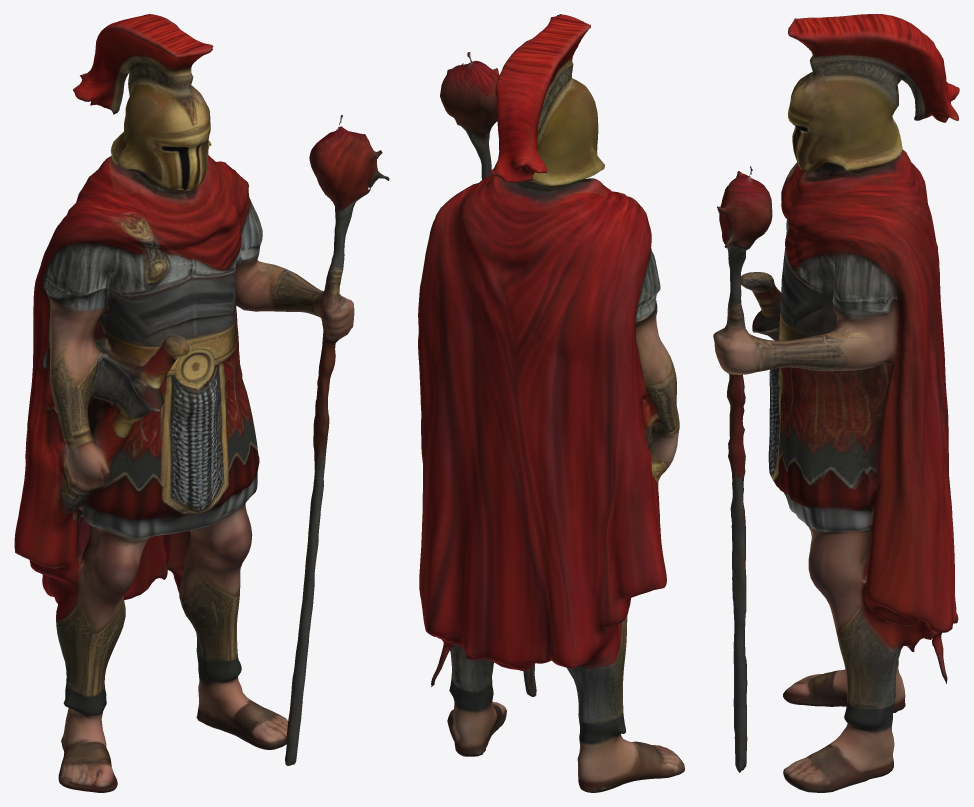
Rendered from centurion.glb.
The picture shows the model from 3 angles, left to right: view 1: azimuth 30°, elevation 25°; view 2: azimuth 150°, elevation 25°; view 3: azimuth 270°, elevation 25°; orthographic projection.
Size of the model in its own units: 0.8635 by 2 by 0.6218.
1 material, 1 textured.
